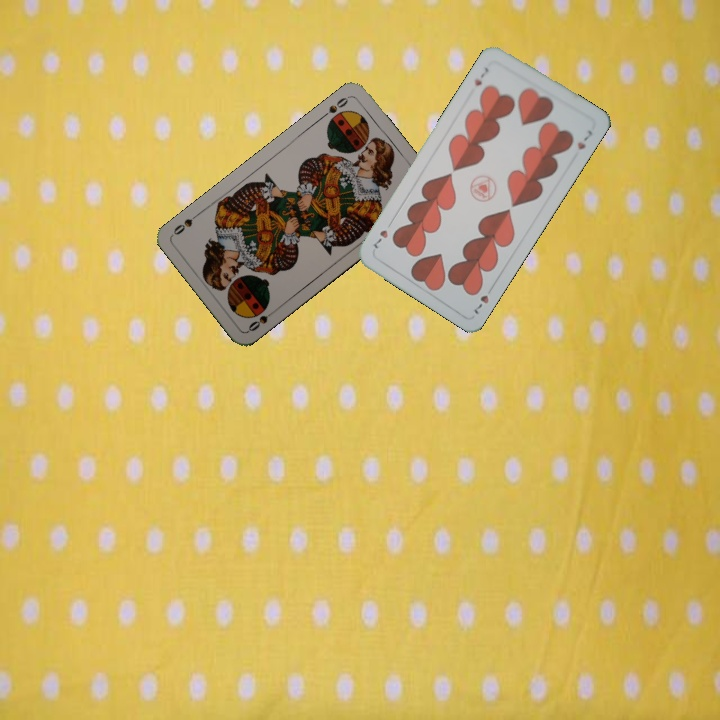H7: (470, 281, 496, 317), (470, 63, 492, 88)
SO: (244, 305, 279, 334), (317, 92, 352, 121)
